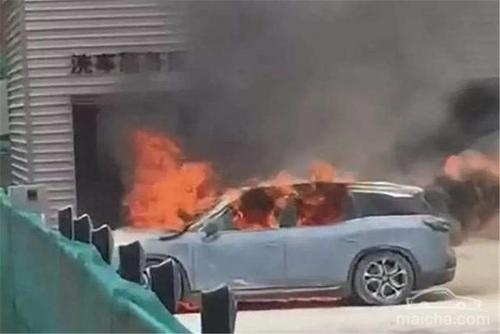fire: (122, 131, 356, 231)
